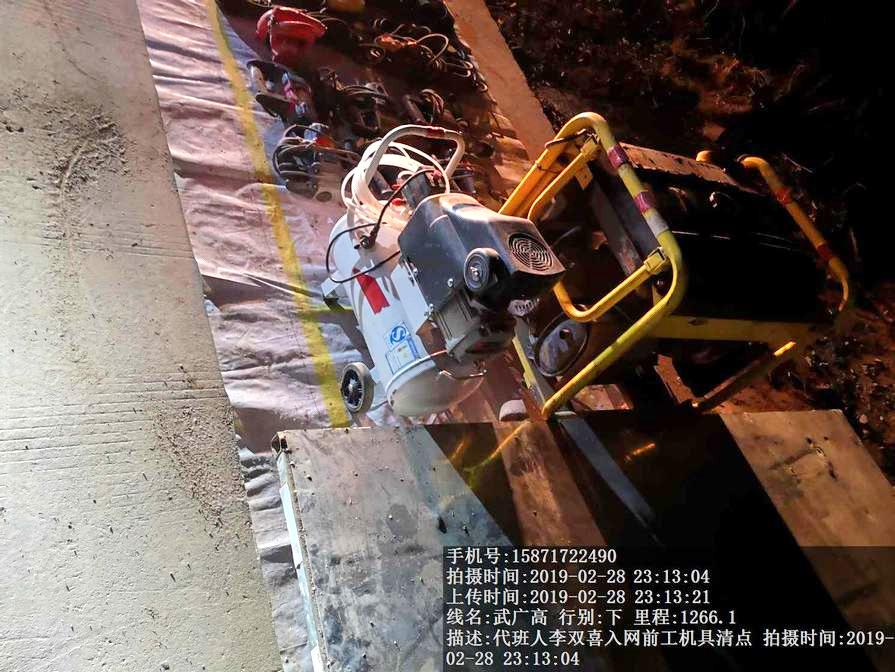DJ: (543, 115, 849, 425)
